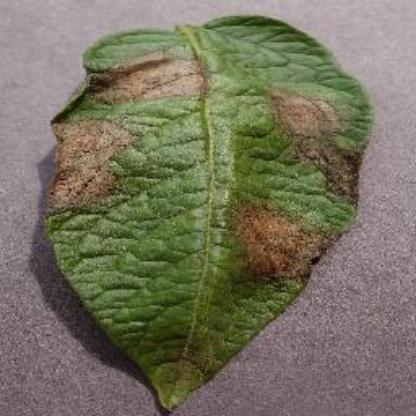Late-Blight: (41, 13, 378, 409)
